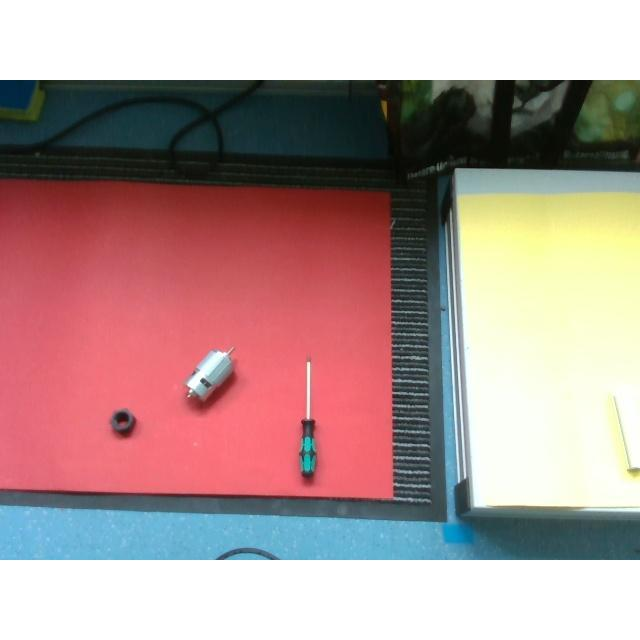M20: (110, 410, 136, 434)
Motor2: (186, 347, 234, 401)
Screwdriver: (298, 356, 318, 479)
